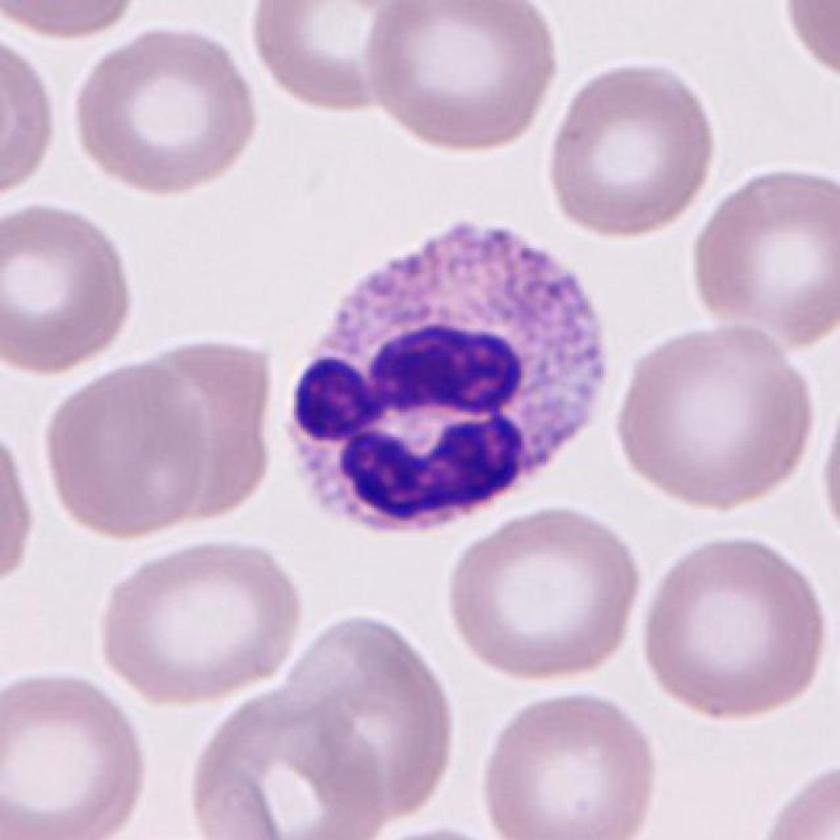neutrophil: (291, 220, 613, 542)
